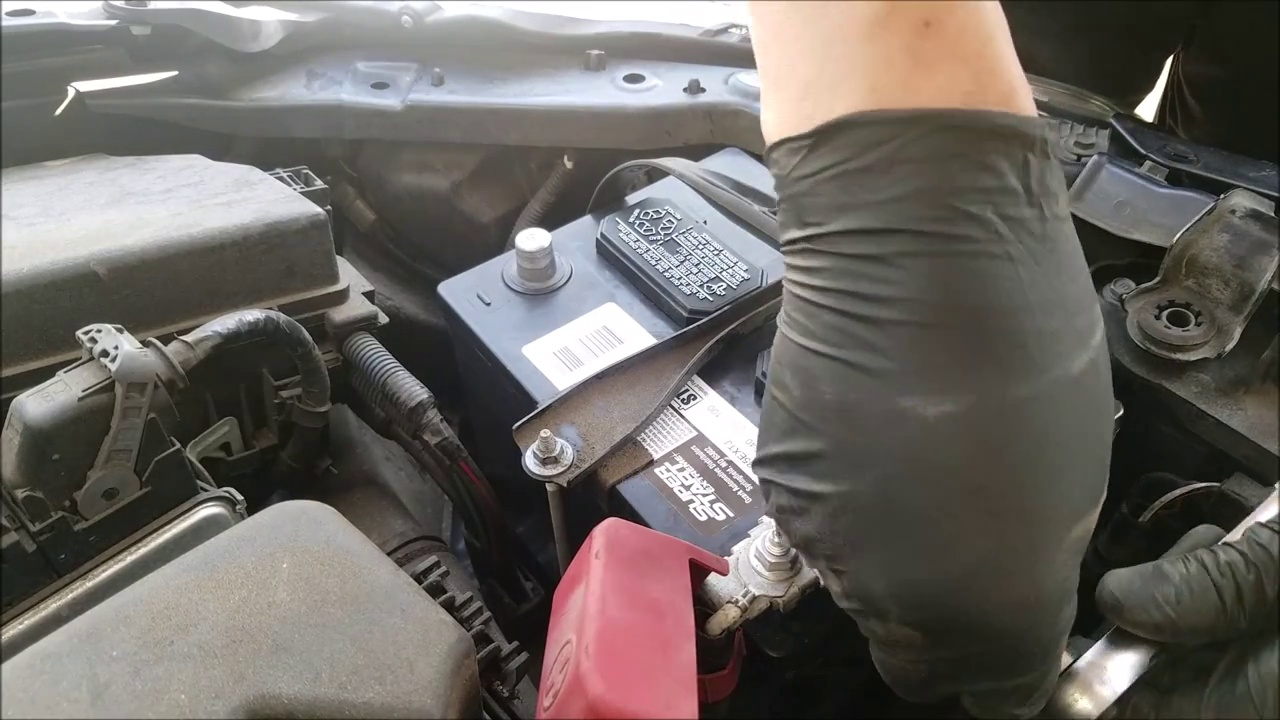battery: (437, 142, 856, 653)
neg_disconnected: (458, 190, 607, 325)
pos_touched: (548, 314, 1019, 712)
